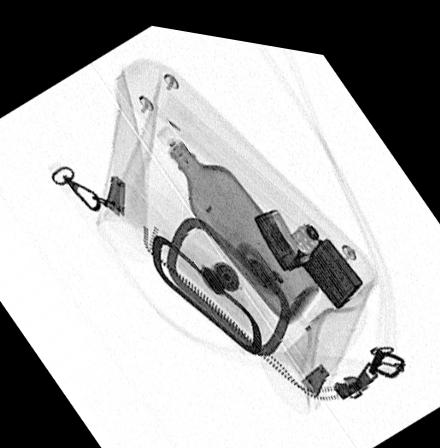Lighter: (253, 197, 364, 297)
